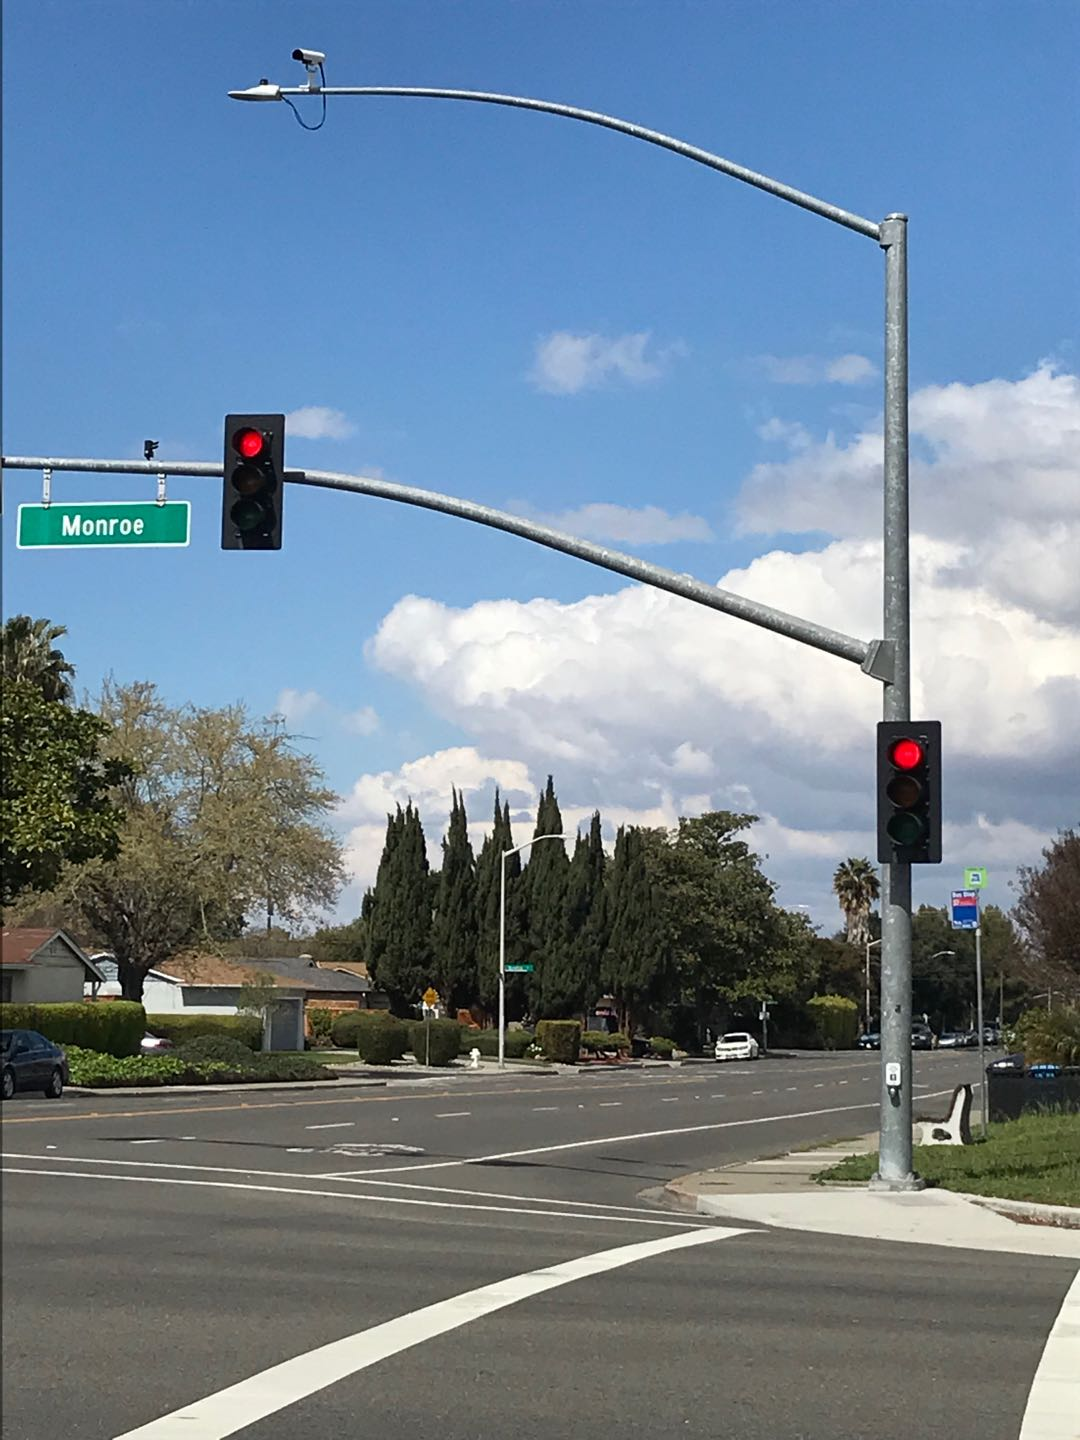red_light: (879, 723, 940, 857), (223, 417, 279, 554)
